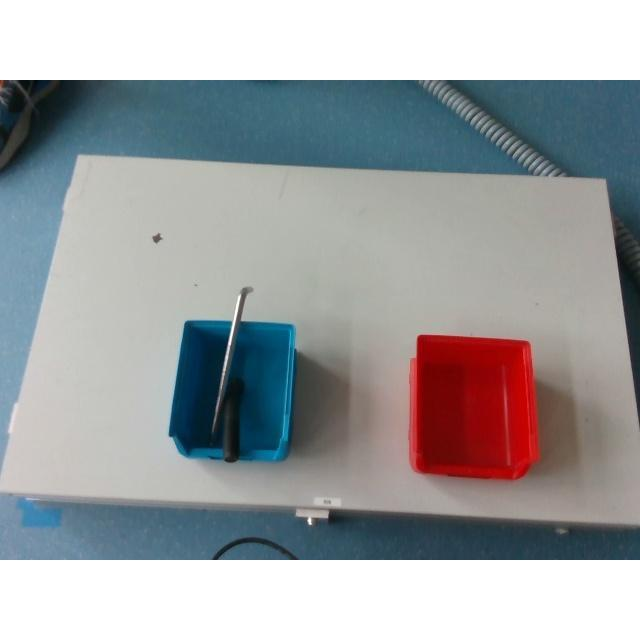AllenKey: (210, 286, 253, 438)
M20_100: (222, 378, 242, 462)
container_box_blue: (170, 320, 294, 460)
container_box_red: (409, 334, 538, 478)
